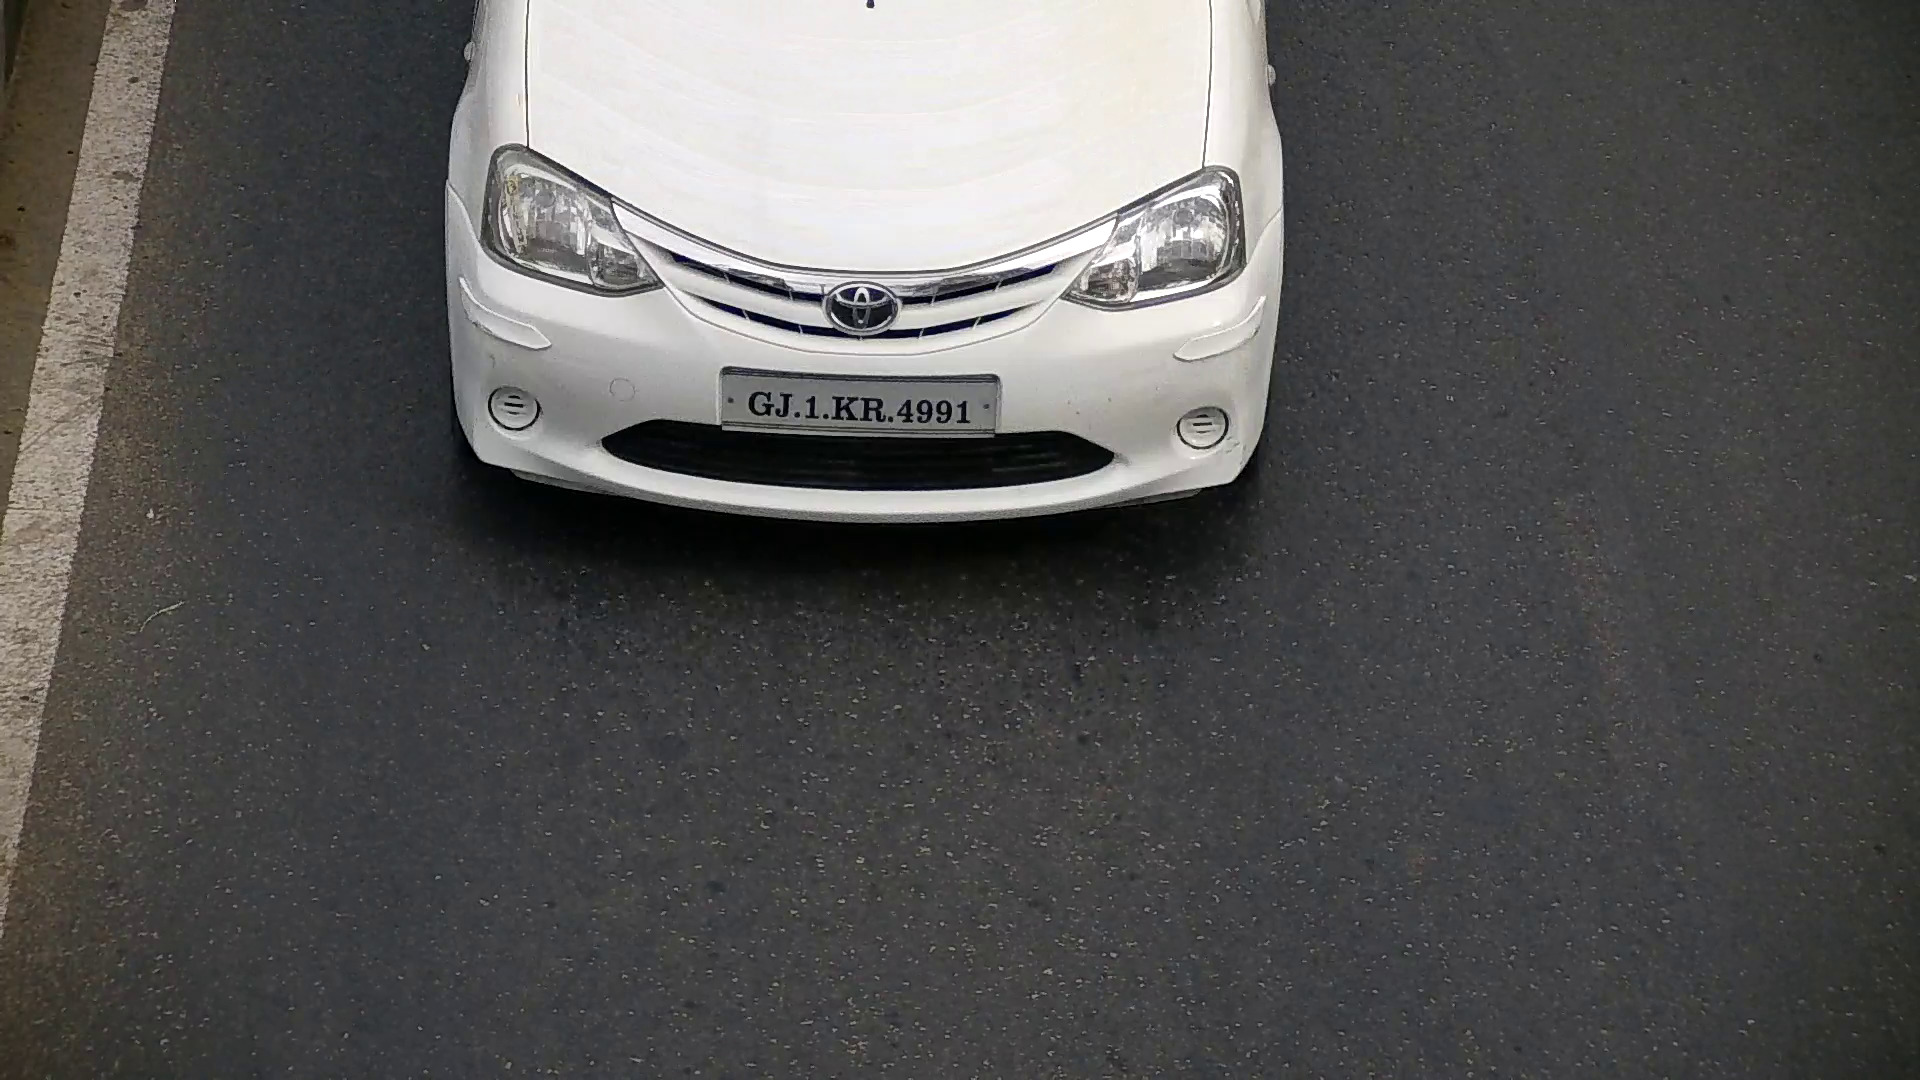numberplate: (716, 361, 997, 448)
